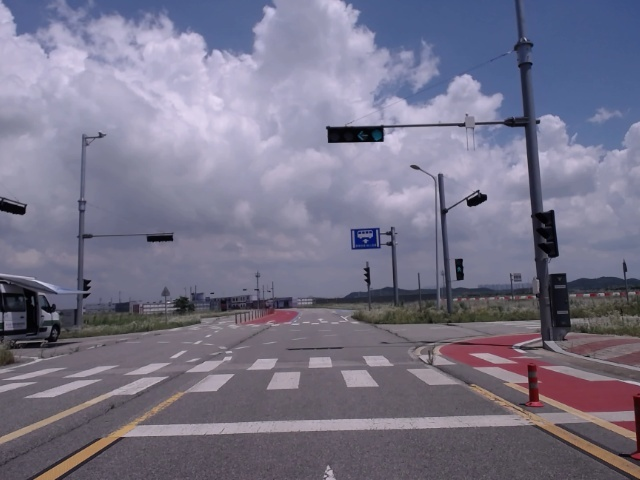all_green_4: (327, 126, 384, 140)
